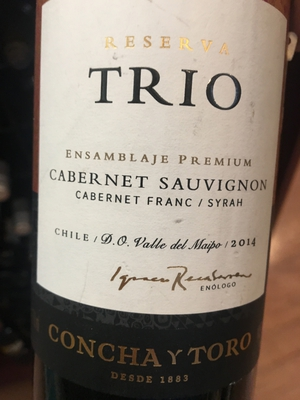trio cabernet sauvignon: (25, 1, 289, 389)
